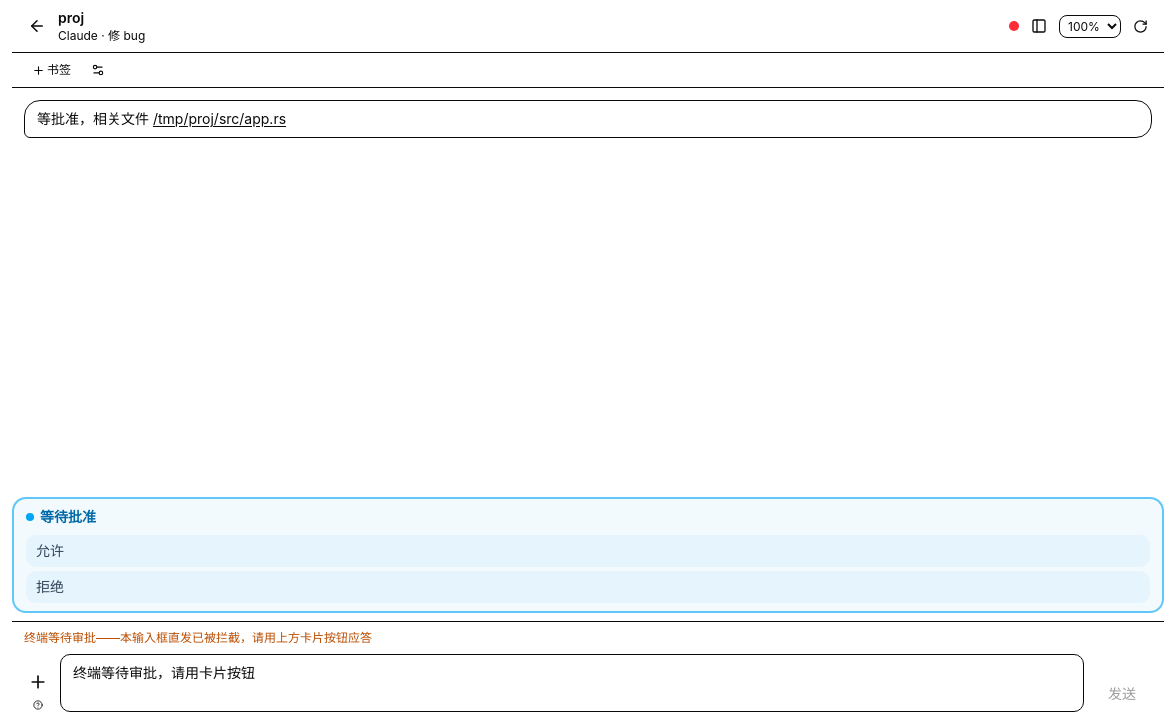
Test: SessionDetail：文件链接化与预览联动 › 分屏态对话能力（2026-09-19 用户裁决回归锁） › waiting 态上下分屏下审批红卡仍挂载——分屏也必须能看到待审批
Click the button with test id "file-link": (219, 119) [153,109,286,129]
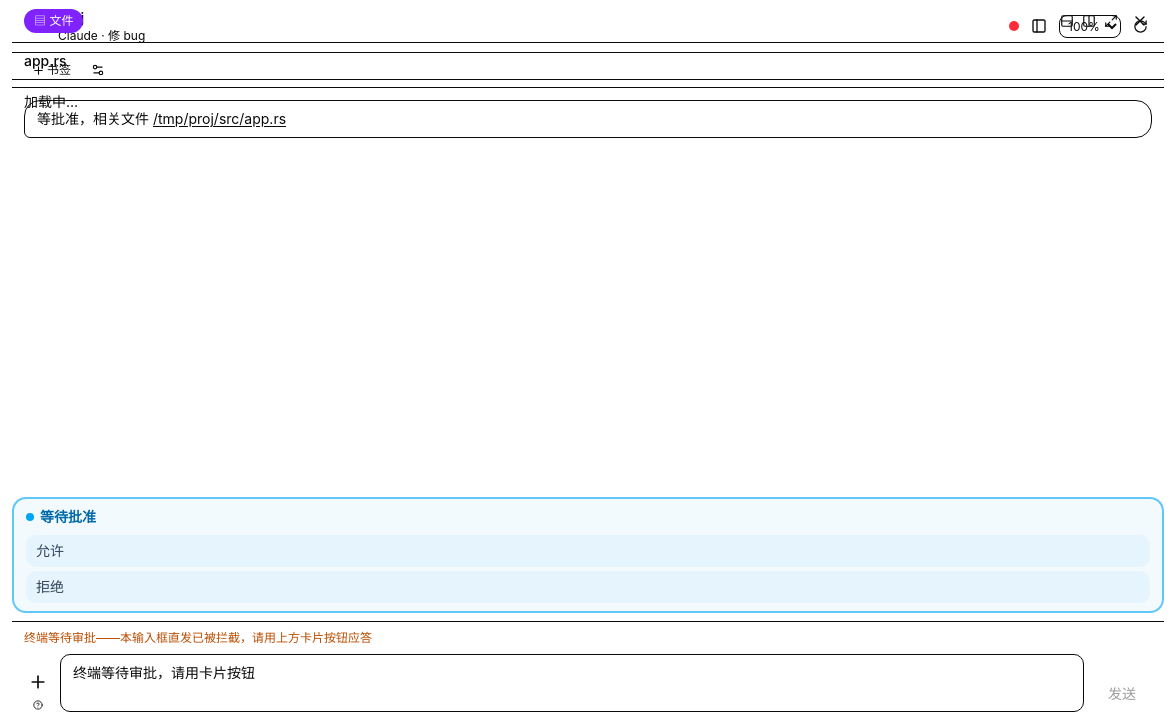
Click the button with test id "preview-toggle-split": (1067, 21) [1056,10,1078,32]
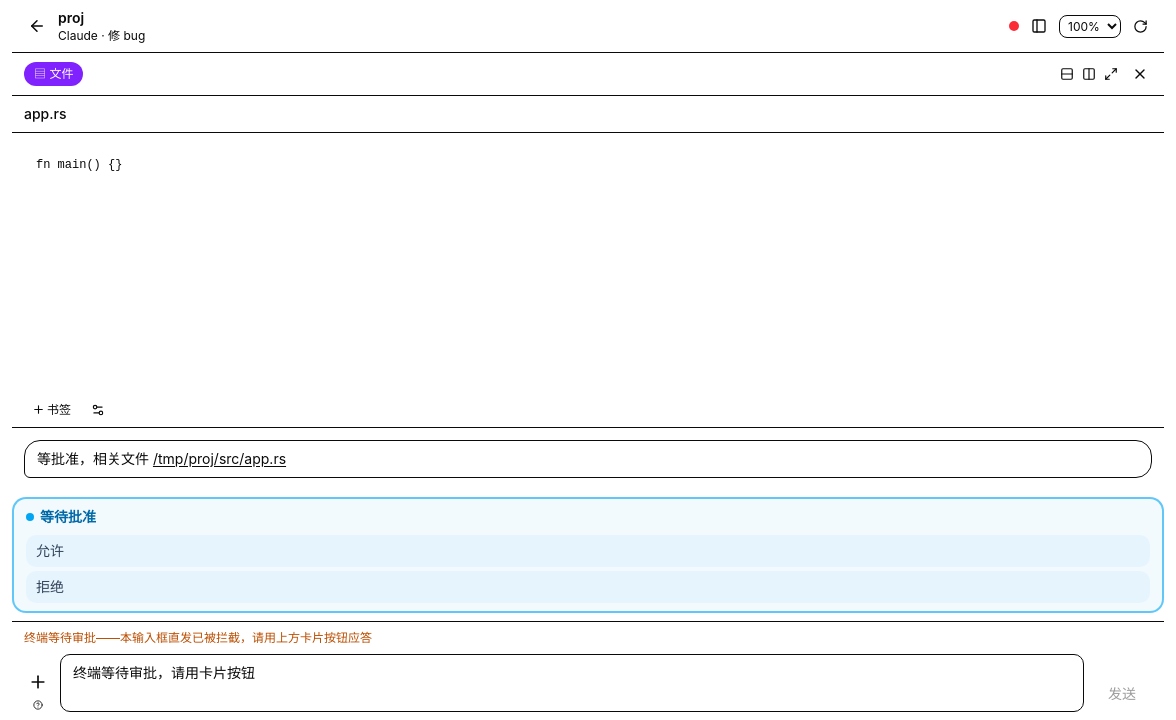
Expected: the element with test id "approve-card" is shown, [12,497,1164,613]
Result: the element with test id "split-container" is shown
